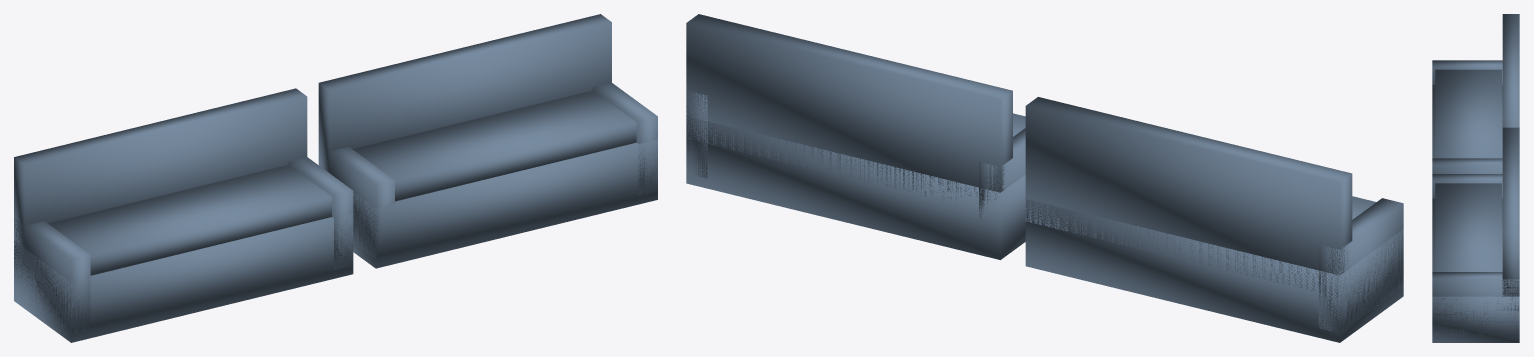
File: sofa__cluster.glb
The picture shows the model from 3 angles, left to right: view 1: azimuth 30°, elevation 25°; view 2: azimuth 150°, elevation 25°; view 3: azimuth 270°, elevation 25°; orthographic projection. The views are drawn at different scales.
Visible parts, largest first — view 1: world; view 2: world; view 3: world.
Part boxes in pixels (x1,y1,x2,y2): world: (14, 14, 657, 342); world: (686, 14, 1403, 342); world: (1432, 14, 1519, 342).
Size of the model in its own units: 4.26 by 1.03 by 0.72.
